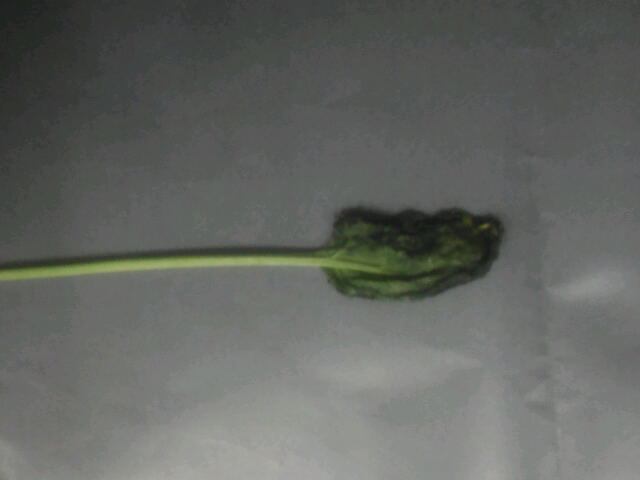yellow: (202, 203, 503, 301)
